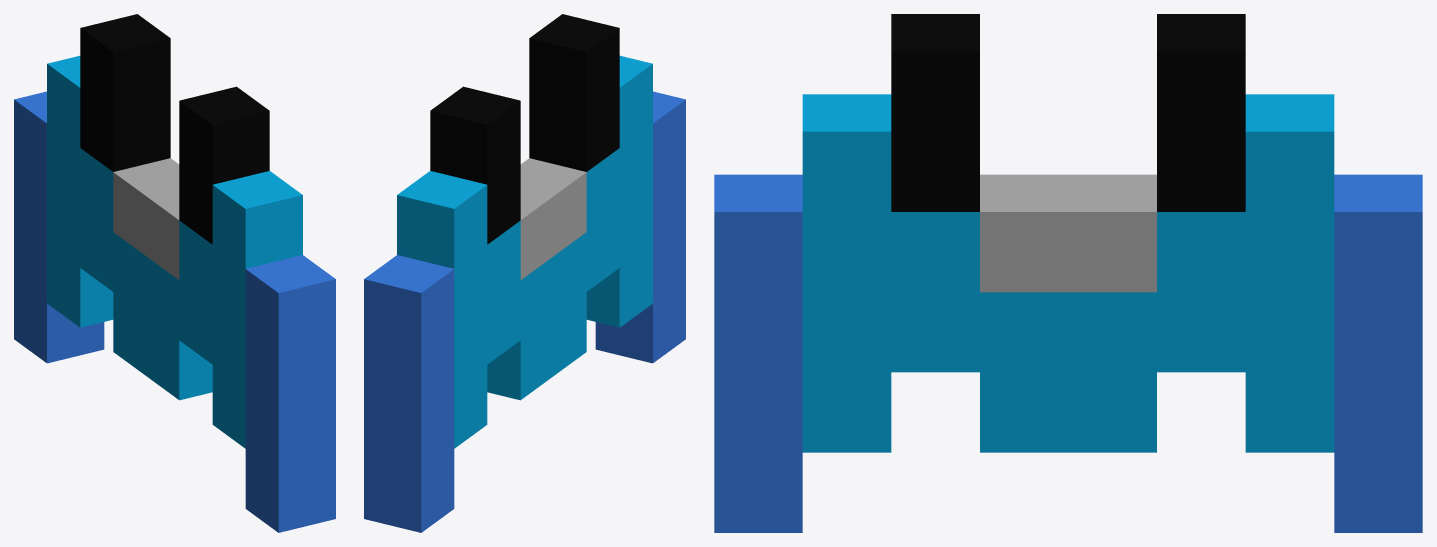
Rendered from AA_P&W_ShipBlueBomber.fbx.
3 renders of one model, left to right at view 1: azimuth 30°, elevation 25°; view 2: azimuth 150°, elevation 25°; view 3: azimuth 270°, elevation 25°, orthographic. The views are drawn at different scales.
Parts seen in each view (by area): view 1: Cube.032, Cube.112, Cube.107, Cube.110, Cube.063, Cube.031, Cube.116, Cube, Cube.007, Cube.044, Cube.002, Cube.021 (+18 smaller); view 2: Cube.041, Cube.117, Cube.110, Cube.107, Cube.054, Cube.022, Cube.113, Cube.007, Cube, Cube.045, Cube.001, Cube.016 (+18 smaller); view 3: Cube.117, Cube.112, Cube.044, Cube.041, Cube.032, Cube.045, Cube.110, Cube.107, Cube.021, Cube.016, Cube.053, Cube.048 (+18 smaller).
Boxes of the visible parts, <box> form: Cube.032: <box>245,255,335,352</box>; Cube.112: <box>212,171,302,268</box>; Cube.107: <box>80,14,170,111</box>; Cube.110: <box>179,86,269,184</box>; Cube.063: <box>245,329,335,412</box>; Cube.031: <box>245,389,335,472</box>; Cube.116: <box>80,88,170,171</box>; Cube: <box>245,449,335,532</box>; Cube.007: <box>14,279,104,363</box>; Cube.044: <box>113,158,179,255</box>; Cube.002: <box>146,316,212,400</box>; Cube.021: <box>47,244,113,327</box>; Cube.041: <box>364,255,454,352</box>; Cube.117: <box>397,171,487,268</box>; Cube.110: <box>529,14,619,111</box>; Cube.107: <box>430,86,520,184</box>; Cube.054: <box>364,329,454,412</box>; Cube.022: <box>364,389,454,472</box>; Cube.113: <box>529,88,619,171</box>; Cube.007: <box>364,449,454,532</box>; Cube: <box>595,279,685,363</box>; Cube.045: <box>520,158,586,255</box>; Cube.001: <box>487,316,553,400</box>; Cube.016: <box>586,244,652,327</box>; Cube.117: <box>1245,94,1334,211</box>; Cube.112: <box>802,94,891,211</box>; Cube.044: <box>1068,174,1156,292</box>; Cube.041: <box>1334,174,1422,292</box>; Cube.032: <box>714,174,802,292</box>; Cube.045: <box>980,174,1068,292</box>; Cube.110: <box>891,14,979,131</box>; Cube.107: <box>1157,14,1245,131</box>; Cube.021: <box>1245,372,1334,452</box>; Cube.016: <box>802,372,891,452</box>; Cube.053: <box>1245,292,1334,372</box>; Cube.048: <box>802,292,891,372</box>.
Bounding box in the file's own units: 200 × 1200 × 1600.
